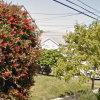Tree: (2, 3, 48, 100)
